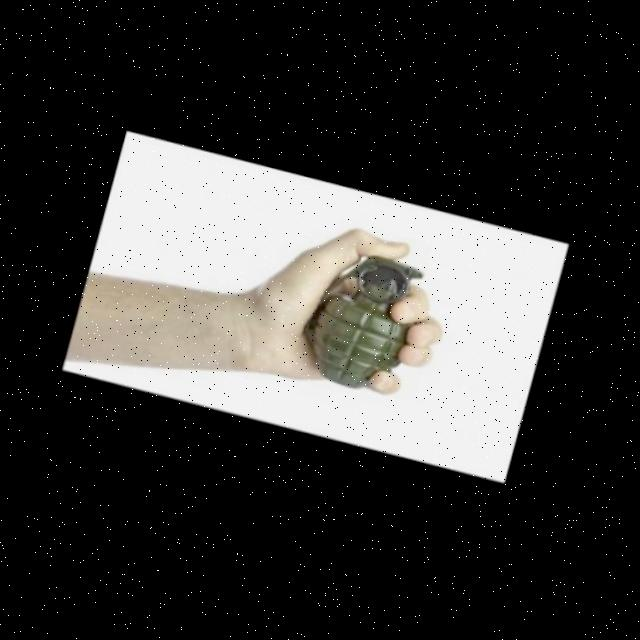grenade: (287, 239, 435, 411)
